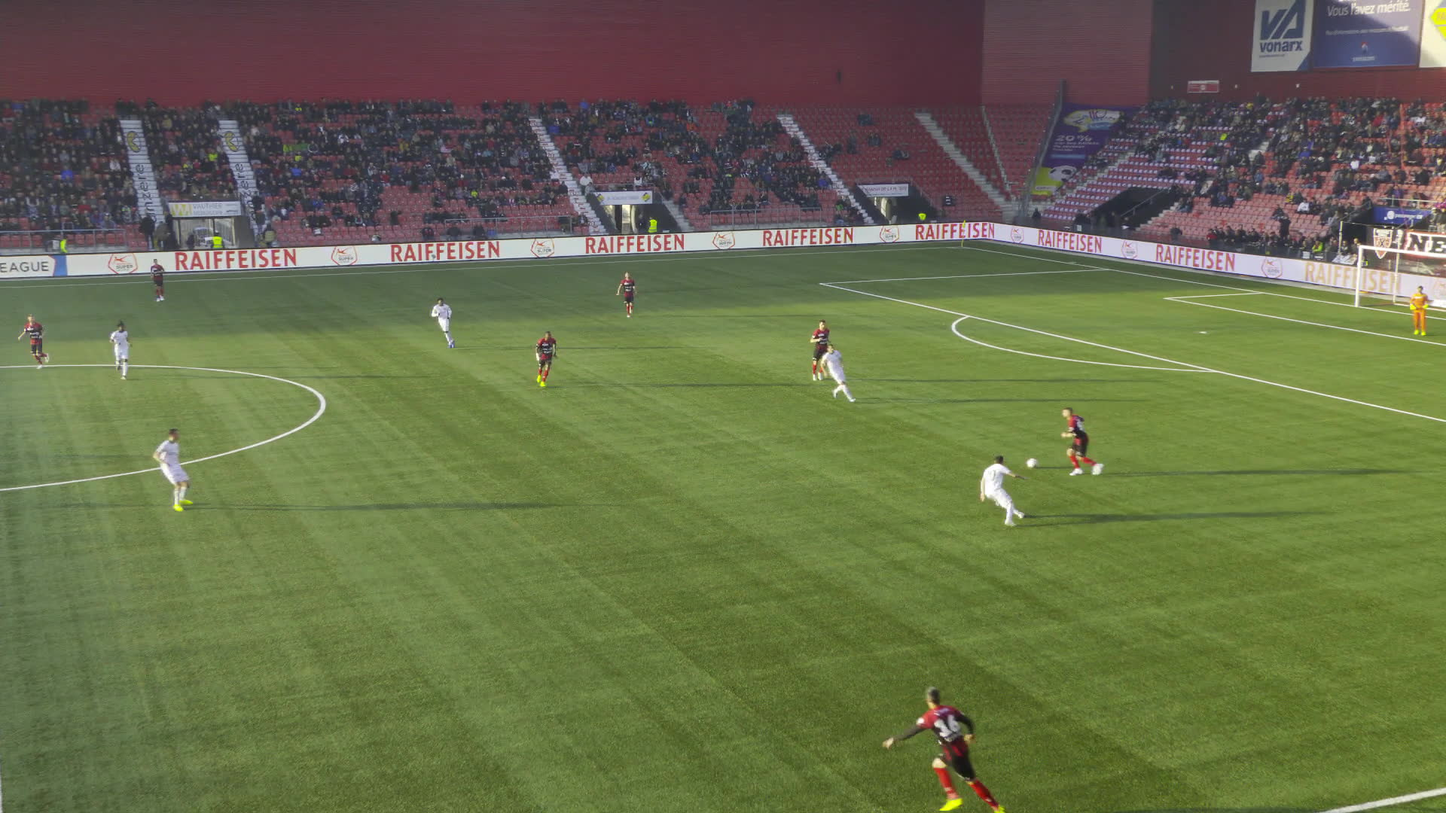ball: (1029, 458, 1040, 468)
player: (895, 689, 1005, 812), (147, 423, 190, 510), (973, 453, 1024, 525), (1063, 407, 1106, 478), (818, 344, 852, 403), (20, 312, 52, 370), (534, 330, 559, 388), (106, 321, 130, 379), (430, 300, 456, 351), (809, 319, 833, 367), (1411, 285, 1433, 337), (616, 268, 636, 317), (147, 260, 163, 303)
